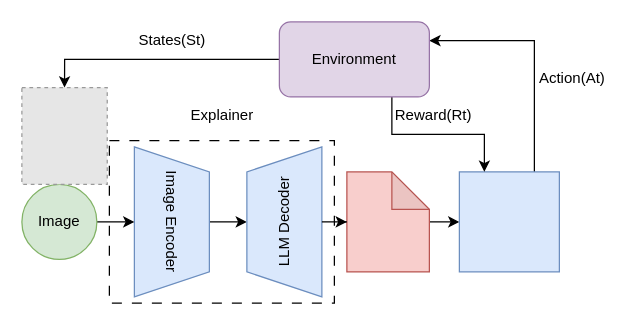
Some shapes in this 644 by 325 pixel diagram are drawn without their labels. Grey dashed boxes stand in for pictures. The shapes that lost their labels are listed below. From the top down, each one's centre as x and y in pixels, then its label:
At (387,221): "Explanation Prompt".
At (508,221): "LLM Interpreter".
